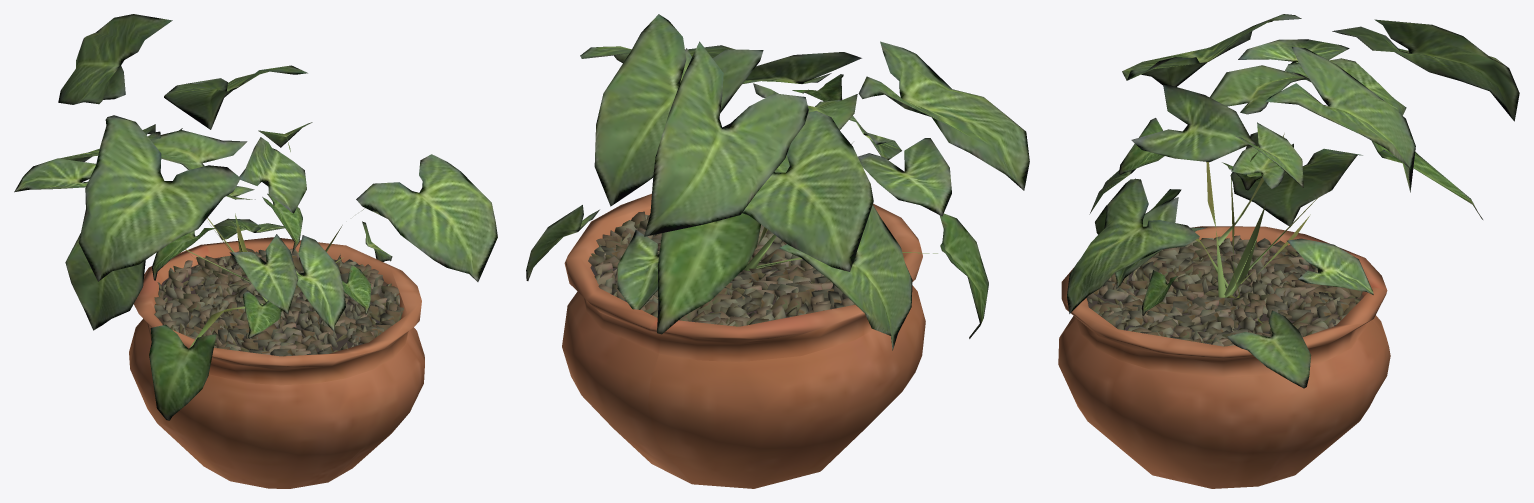
Rendered from ph-potted-plant-02.glb.
3 renders of one model, left to right at view 1: azimuth 30°, elevation 25°; view 2: azimuth 150°, elevation 25°; view 3: azimuth 270°, elevation 25°, orthographic. The views are drawn at different scales.
Parts seen in each view (by area): view 1: potted_plant_02_leaves, potted_plant_02_pot; view 2: potted_plant_02_leaves, potted_plant_02_pot; view 3: potted_plant_02_pot, potted_plant_02_leaves.
Part boxes in pixels (box(x1,y1,x2,y2)): potted_plant_02_leaves: box(14, 14, 497, 420); potted_plant_02_pot: box(129, 237, 424, 488); potted_plant_02_leaves: box(526, 14, 1029, 350); potted_plant_02_pot: box(562, 193, 925, 488); potted_plant_02_pot: box(1058, 226, 1390, 488); potted_plant_02_leaves: box(1067, 14, 1519, 388).
Bounding box in the file's own units: 1 × 0.994 × 0.9969.
2 materials, 2 textured.
